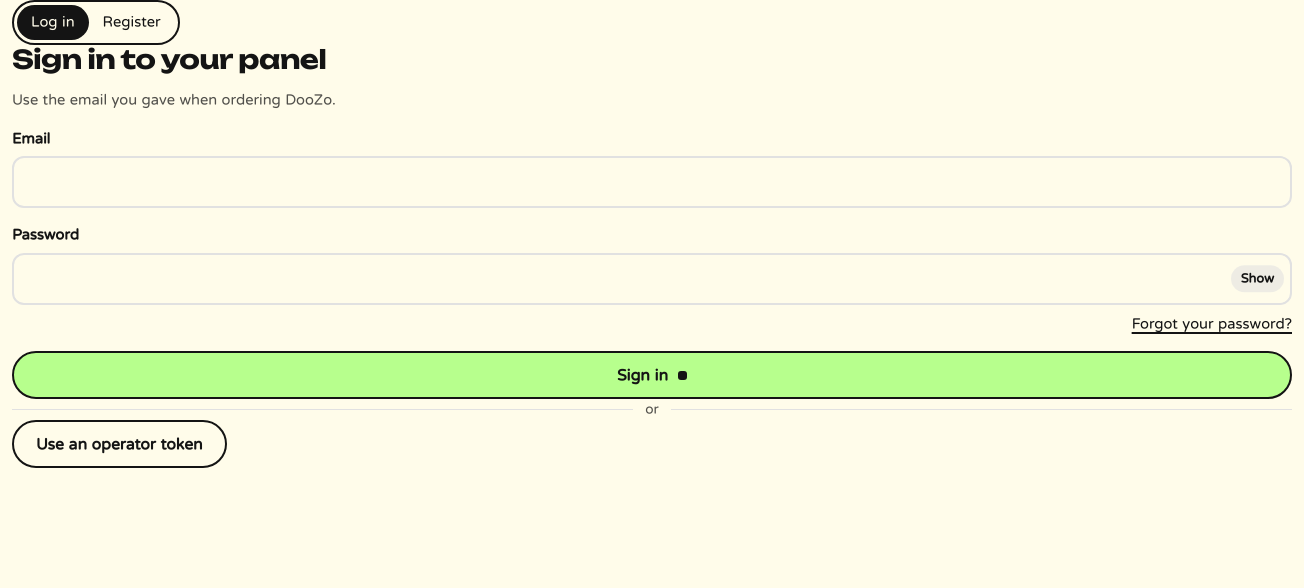
Test case: AuthScreen › validates sign-in and explains that account login awaits the API
Click the button "Sign in" at (652, 375), box [12, 351, 1292, 399]
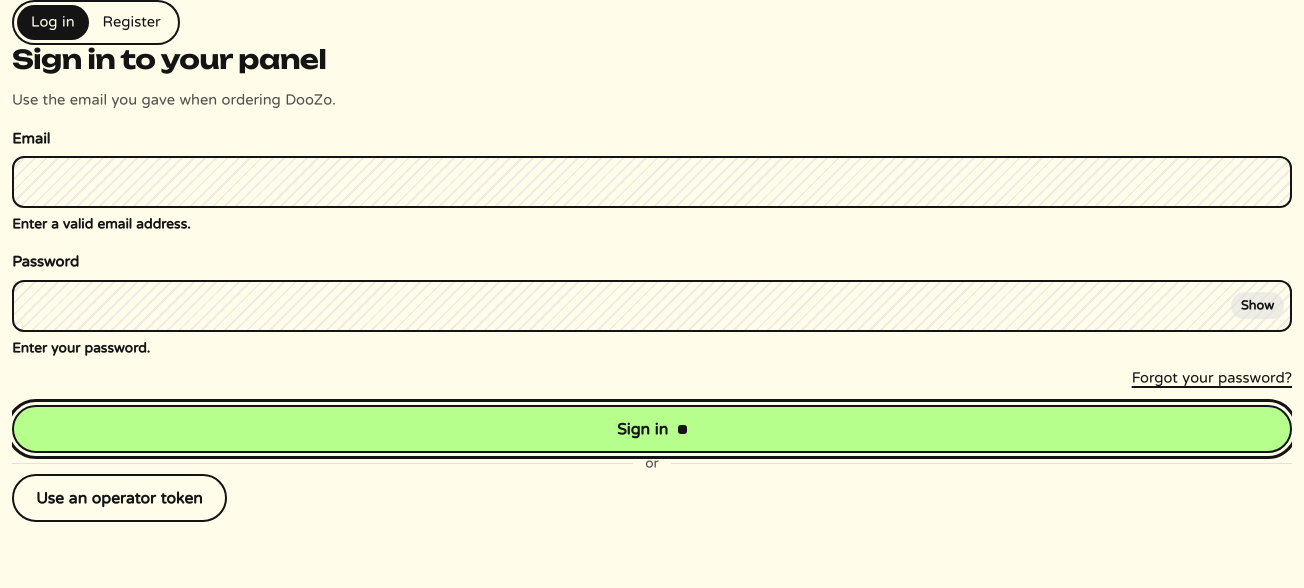
Now the text "Enter a valid email address." is shown, box [12, 216, 190, 232]
Now the text "Enter your password." is shown, box [12, 340, 150, 356]
Type "owner@bistro.pl" into the field labelled "Email" at (652, 182), box [12, 156, 1292, 208]
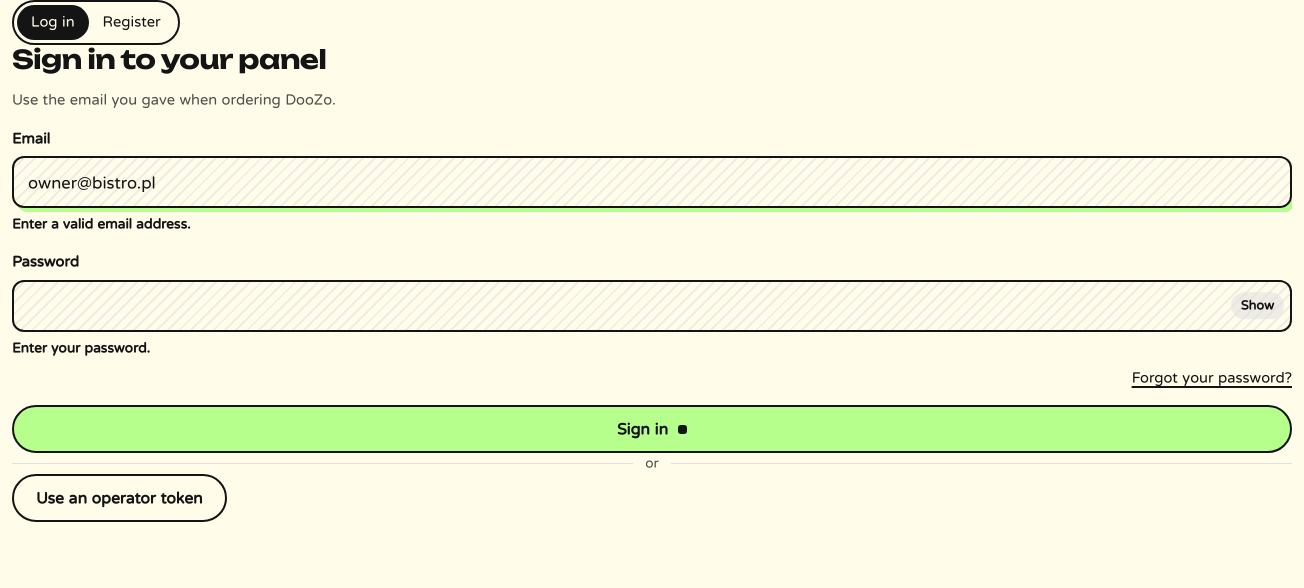
Type "secret-pass" into the password field labelled "Password" at (652, 306), box [12, 280, 1292, 332]
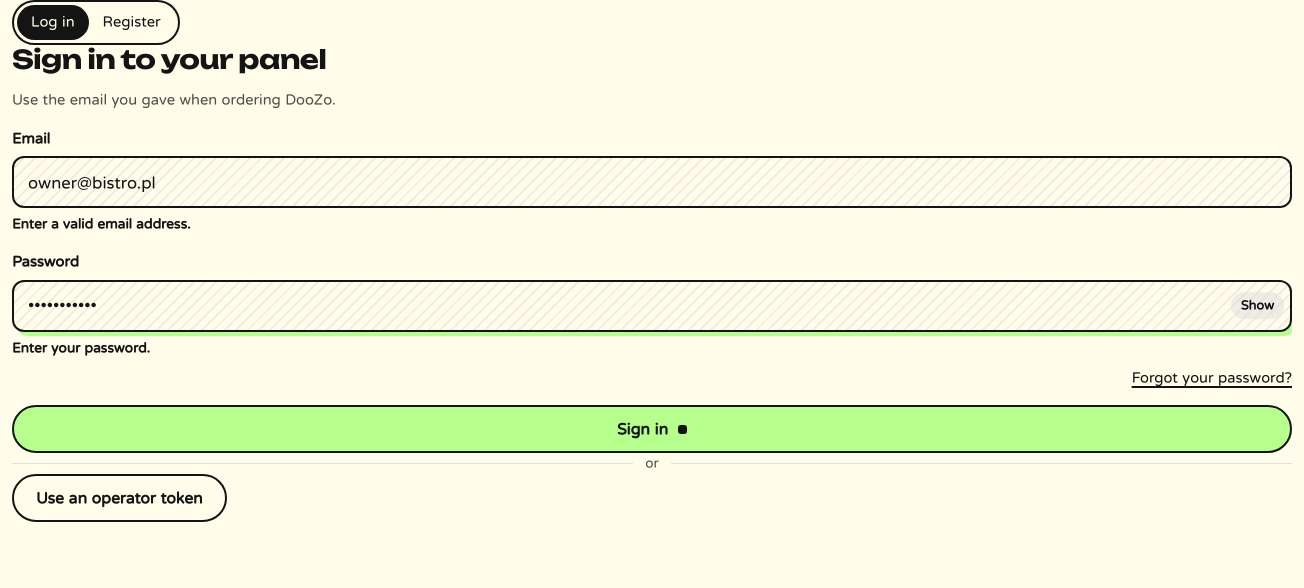
Click the button "Sign in" at (652, 429), box [12, 405, 1292, 453]
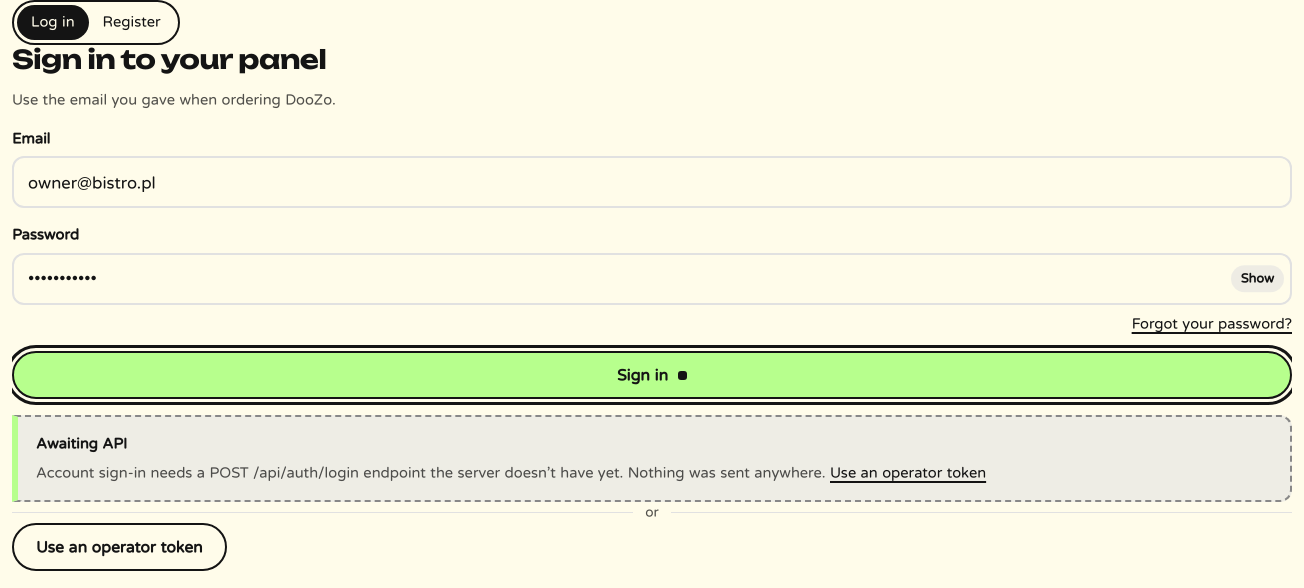
Now the text "POST /api/auth/login" is shown, box [36, 464, 826, 481]
Now the text "Enter your password." is gone
